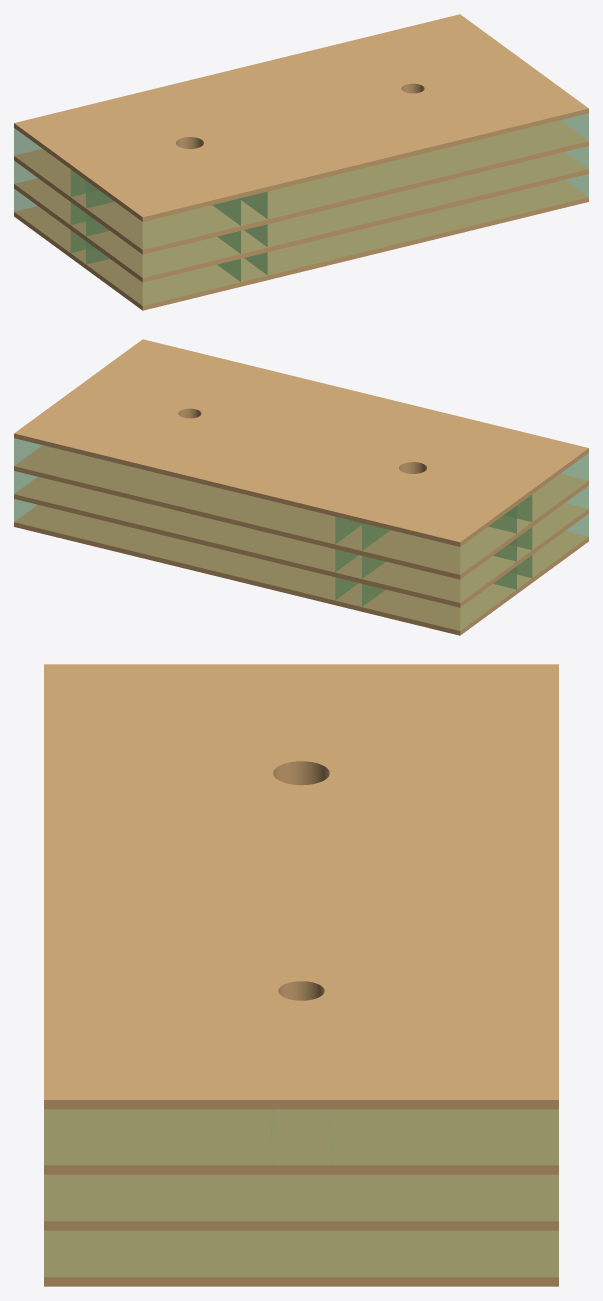
The model's file is board.glb.
3 renders of one model, top to bottom at view 1: azimuth 30°, elevation 25°; view 2: azimuth 150°, elevation 25°; view 3: azimuth 270°, elevation 25°, orthographic. The views are drawn at different scales.
Visible parts, largest first — view 1: Substrate_Layer_6_Z0, Substrate_Layer_4_Z0, Substrate_Layer_5_Z0, Substrate_Layer_0_Z0, Substrate_Layer_2_Z0, Substrate_Layer_3_Z0, Substrate_Layer_1_Z0, Unified_Via_7, Unified_Via_9; view 2: Substrate_Layer_6_Z0, Substrate_Layer_4_Z0, Substrate_Layer_5_Z0, Substrate_Layer_0_Z0, Substrate_Layer_2_Z0, Substrate_Layer_3_Z0, Substrate_Layer_1_Z0, Unified_Via_7, Unified_Via_9; view 3: Substrate_Layer_6_Z0, Substrate_Layer_4_Z0, Substrate_Layer_0_Z0, Substrate_Layer_2_Z0, Substrate_Layer_5_Z0, Substrate_Layer_1_Z0, Substrate_Layer_3_Z0, Unified_Via_7, Unified_Via_9.
Boxes of the visible parts, box(x1,y1,x2,y2) form: Substrate_Layer_6_Z0: box(14, 14, 588, 221); Substrate_Layer_4_Z0: box(14, 120, 588, 254); Substrate_Layer_5_Z0: box(14, 113, 588, 249); Substrate_Layer_0_Z0: box(14, 180, 588, 310); Substrate_Layer_2_Z0: box(14, 152, 588, 282); Substrate_Layer_3_Z0: box(14, 146, 588, 277); Substrate_Layer_1_Z0: box(14, 174, 588, 305); Unified_Via_7: box(164, 132, 215, 153); Unified_Via_9: box(393, 80, 433, 97); Substrate_Layer_6_Z0: box(14, 339, 588, 546); Substrate_Layer_4_Z0: box(14, 445, 588, 579); Substrate_Layer_5_Z0: box(14, 438, 588, 574); Substrate_Layer_0_Z0: box(14, 505, 588, 635); Substrate_Layer_2_Z0: box(14, 477, 588, 607); Substrate_Layer_3_Z0: box(14, 471, 588, 602); Substrate_Layer_1_Z0: box(14, 499, 588, 630); Unified_Via_7: box(388, 457, 438, 477); Unified_Via_9: box(169, 405, 209, 421); Substrate_Layer_6_Z0: box(44, 664, 558, 1109); Substrate_Layer_4_Z0: box(44, 1109, 558, 1174); Substrate_Layer_0_Z0: box(44, 1230, 558, 1286); Substrate_Layer_2_Z0: box(44, 1174, 558, 1230); Substrate_Layer_5_Z0: box(44, 1109, 558, 1165); Substrate_Layer_1_Z0: box(44, 1231, 558, 1276); Substrate_Layer_3_Z0: box(44, 1175, 558, 1220); Unified_Via_7: box(250, 751, 352, 794); Unified_Via_9: box(261, 973, 338, 1007).
Size of the model in its own units: 0.01 by 0.002 by 0.005.
